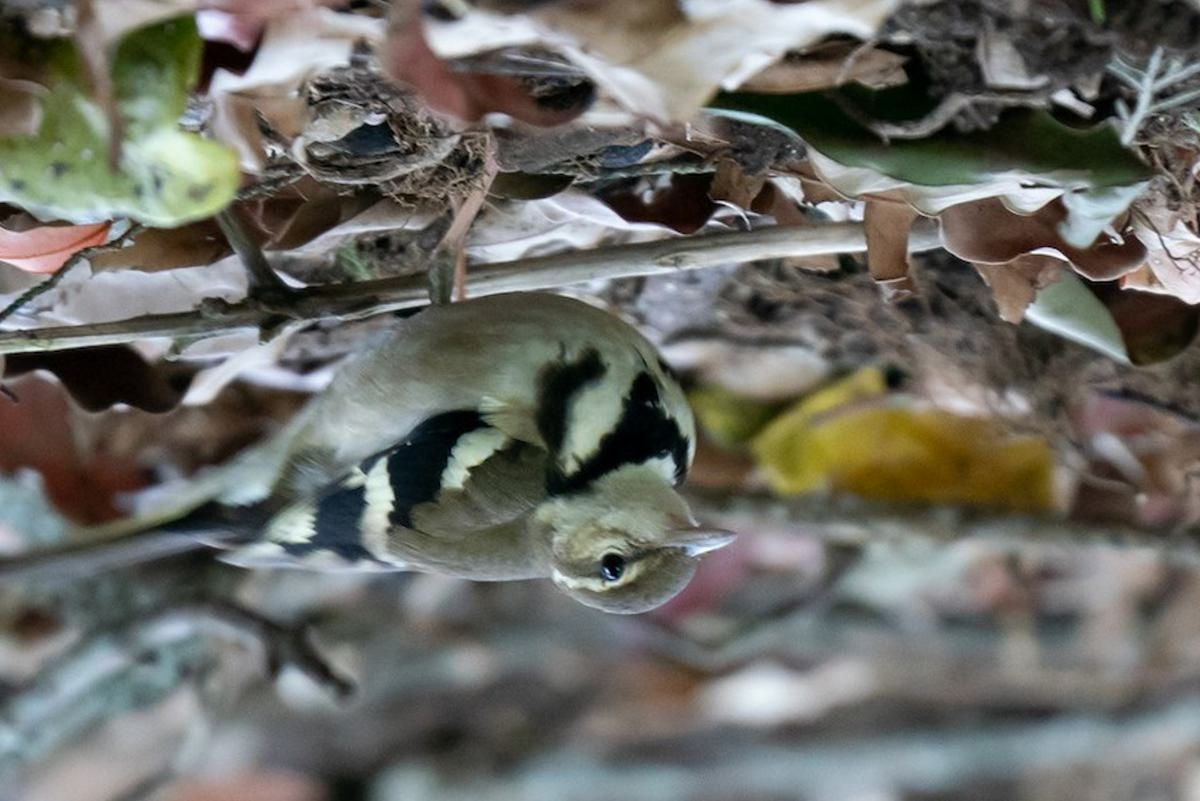wagtail: (163, 284, 744, 615)
